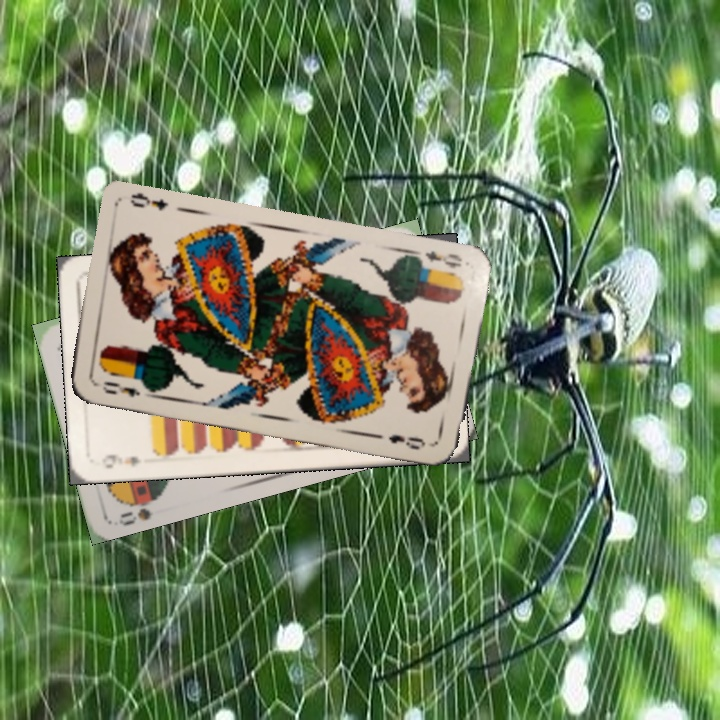E9: (98, 450, 144, 471)
EO: (421, 247, 465, 271), (98, 377, 143, 400)
SO: (114, 489, 165, 528)
